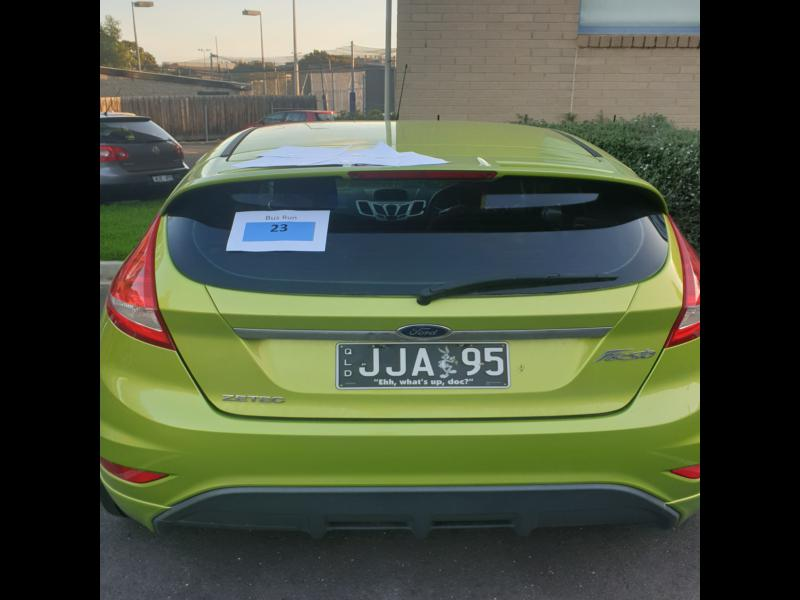BusRun: (243, 221, 317, 238)
PlateNo: (337, 337, 513, 388)
